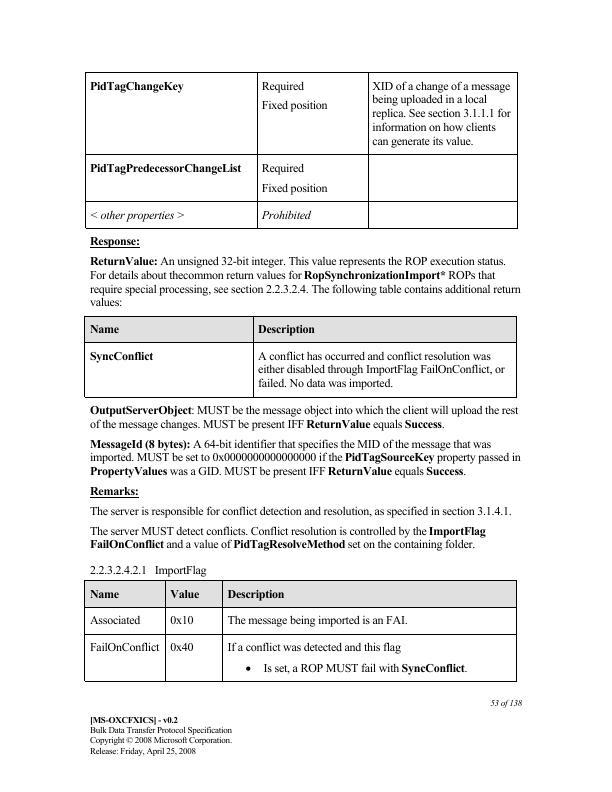table: (82, 70, 520, 230), (85, 581, 520, 684), (82, 315, 519, 401)
text: (87, 253, 523, 310), (86, 436, 523, 479), (86, 404, 519, 431), (87, 524, 490, 552), (86, 712, 233, 757), (87, 504, 512, 519), (86, 563, 208, 577), (86, 236, 141, 250), (86, 485, 141, 499), (487, 694, 527, 711)
